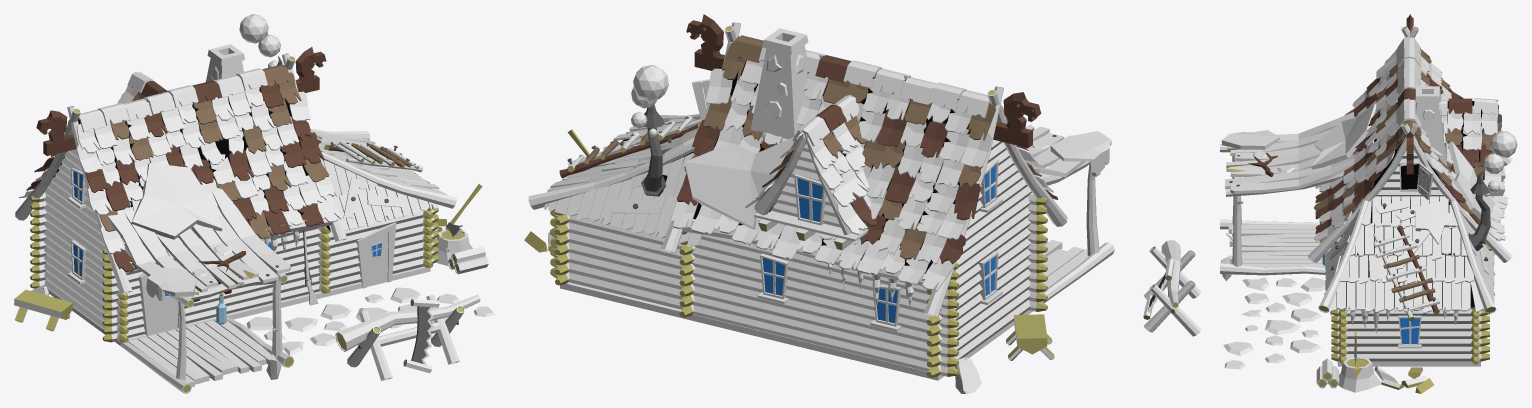
File: Log_House.fbx
3 renders of one model, left to right at view 1: azimuth 30°, elevation 25°; view 2: azimuth 150°, elevation 25°; view 3: azimuth 270°, elevation 25°, orthographic. The views are drawn at different scales.
Parts seen in each view (by area): view 1: Roof, Cube.007, Circle.002, Plank_roof, Circle.000, Plane.056, Plane.063, Circle.003, Wooden_horse_heads, Plane.002, Circle.101, Plane.001 (+25 smaller); view 2: Roof, Circle.001, Circle.002, Plank_roof, Circle.008, Plane.022, Stone_chimney, Plane.001, Wooden_horse_heads, Ladder, Circle.000, Plane.062 (+24 smaller); view 3: Roof, Plank_roof, Circle.004, Cube.007, Plane.056, Ladder, Plane.063, Stone_chimney, Circle.052, Plane.022, Circle.017, Cube.003 (+25 smaller).
Part boxes in pixels (x1,y1,x2,y2): Roof: [19, 64, 341, 271]; Cube.007: [108, 188, 290, 297]; Circle.002: [43, 149, 128, 342]; Plank_roof: [310, 128, 456, 232]; Circle.000: [102, 227, 320, 342]; Plane.056: [128, 319, 271, 386]; Plane.063: [131, 163, 222, 239]; Circle.003: [328, 207, 438, 289]; Wooden_horse_heads: [36, 47, 326, 155]; Plane.002: [356, 222, 396, 288]; Circle.101: [335, 295, 480, 351]; Plane.001: [47, 266, 430, 345]; Roof: [671, 35, 1057, 291]; Circle.001: [691, 234, 959, 376]; Circle.002: [926, 140, 1031, 377]; Plank_roof: [528, 114, 701, 247]; Circle.008: [550, 210, 683, 309]; Plane.022: [684, 137, 794, 229]; Stone_chimney: [750, 28, 808, 144]; Plane.001: [560, 282, 1032, 380]; Wooden_horse_heads: [686, 14, 1041, 147]; Ladder: [559, 116, 701, 178]; Circle.000: [1027, 192, 1047, 311]; Plane.062: [1050, 131, 1111, 176]; Roof: [1314, 36, 1507, 241]; Plank_roof: [1318, 196, 1496, 313]; Circle.004: [1331, 307, 1489, 361]; Cube.007: [1225, 112, 1355, 193]; Plane.056: [1228, 225, 1325, 267]; Ladder: [1373, 225, 1439, 321]; Plane.063: [1311, 104, 1376, 169]; Stone_chimney: [1415, 86, 1447, 165]; Circle.052: [1307, 123, 1418, 262]; Plane.022: [1448, 141, 1495, 219]; Circle.017: [1338, 357, 1381, 392]; Cube.003: [1336, 197, 1474, 307].
Bounding box in the file's own units: 3017 × 1555 × 2445.
